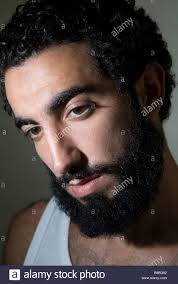middle_eastern_male: (2, 10, 164, 227)
